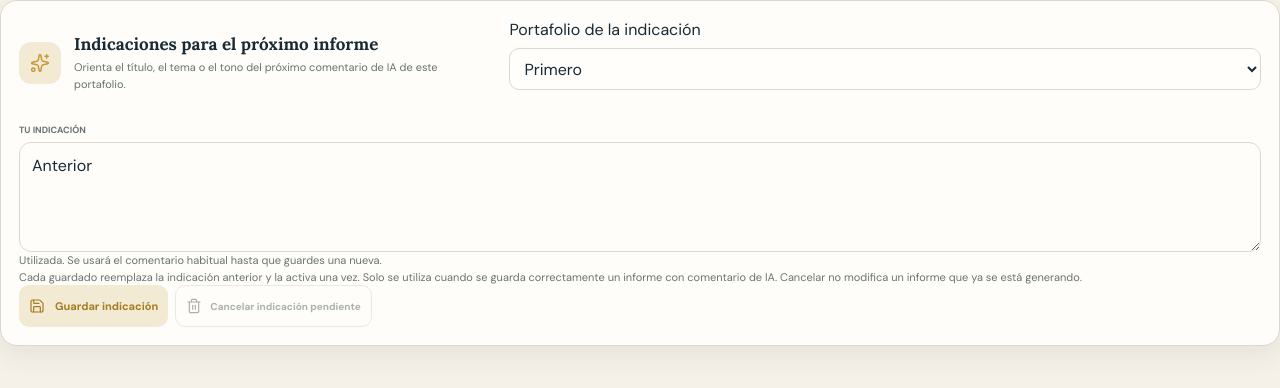
Test case: AiGuidancePanel › saves only explicitly, including repeated text, and cancels the pending indication
Expected: the text "Utilizada. Se usará el comentario habitual hasta que guardes una nueva." is shown, [19, 253, 382, 267]
Step 1. Click the button "Guardar indicación" → (94, 306), box [19, 285, 168, 327]
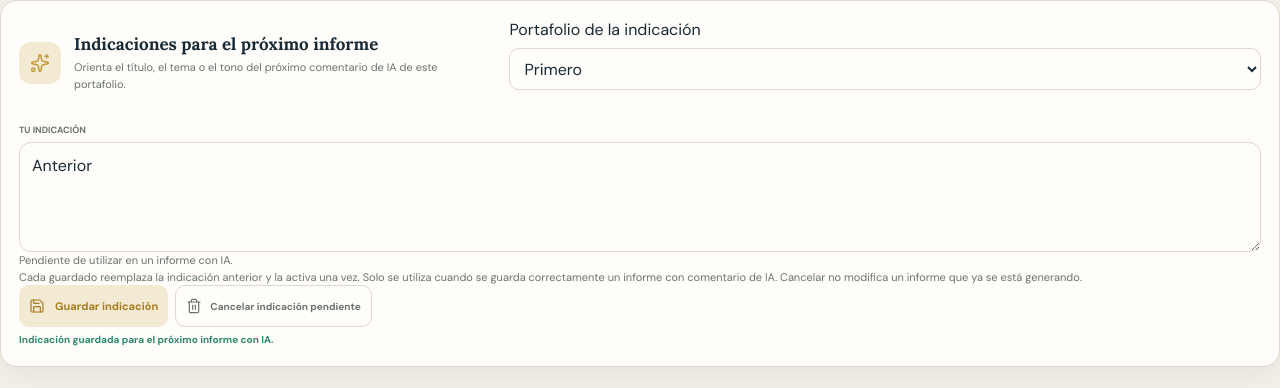
Result: the text "Pendiente de utilizar en un informe con IA." is shown at [19, 253, 233, 267]
Step 2. Replace the text in the text box showing "Anterior" with "Texto en edición" → (640, 197), box [19, 142, 1261, 252]
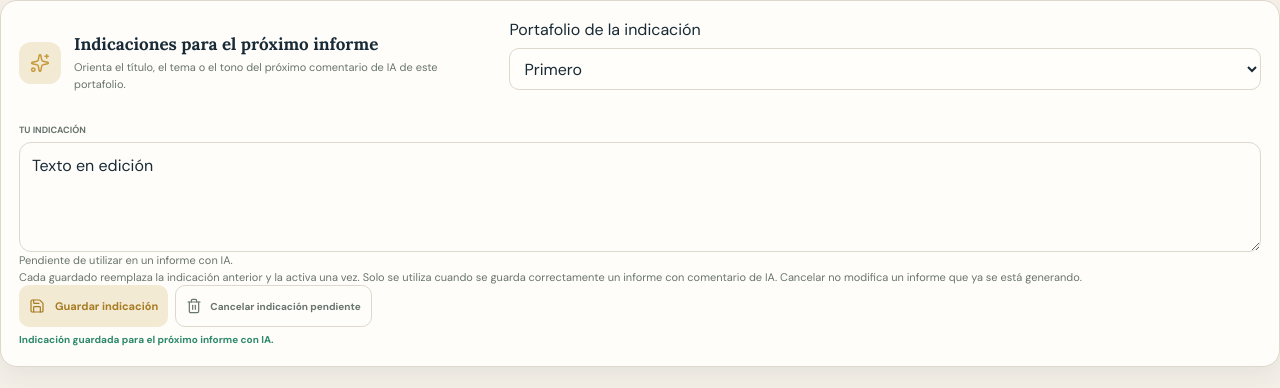
Step 3. Click the button "Cancelar indicación pendiente" → (274, 306), box [175, 285, 372, 327]
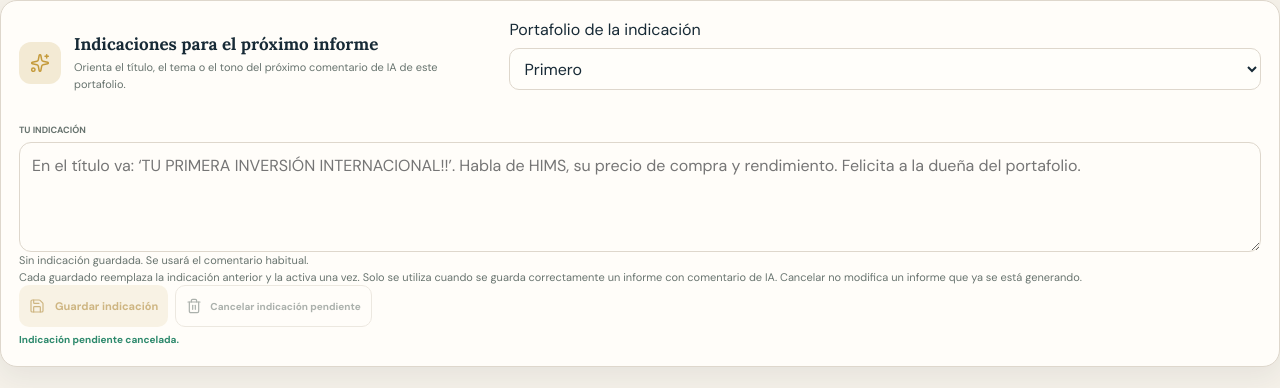
Result: the text "Sin indicación guardada. Se usará el comentario habitual." is shown at [19, 253, 308, 267]
Result: the text box showing "Anterior" is empty at [19, 142, 1261, 252]
